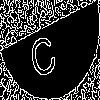C: (25, 25, 59, 81)
